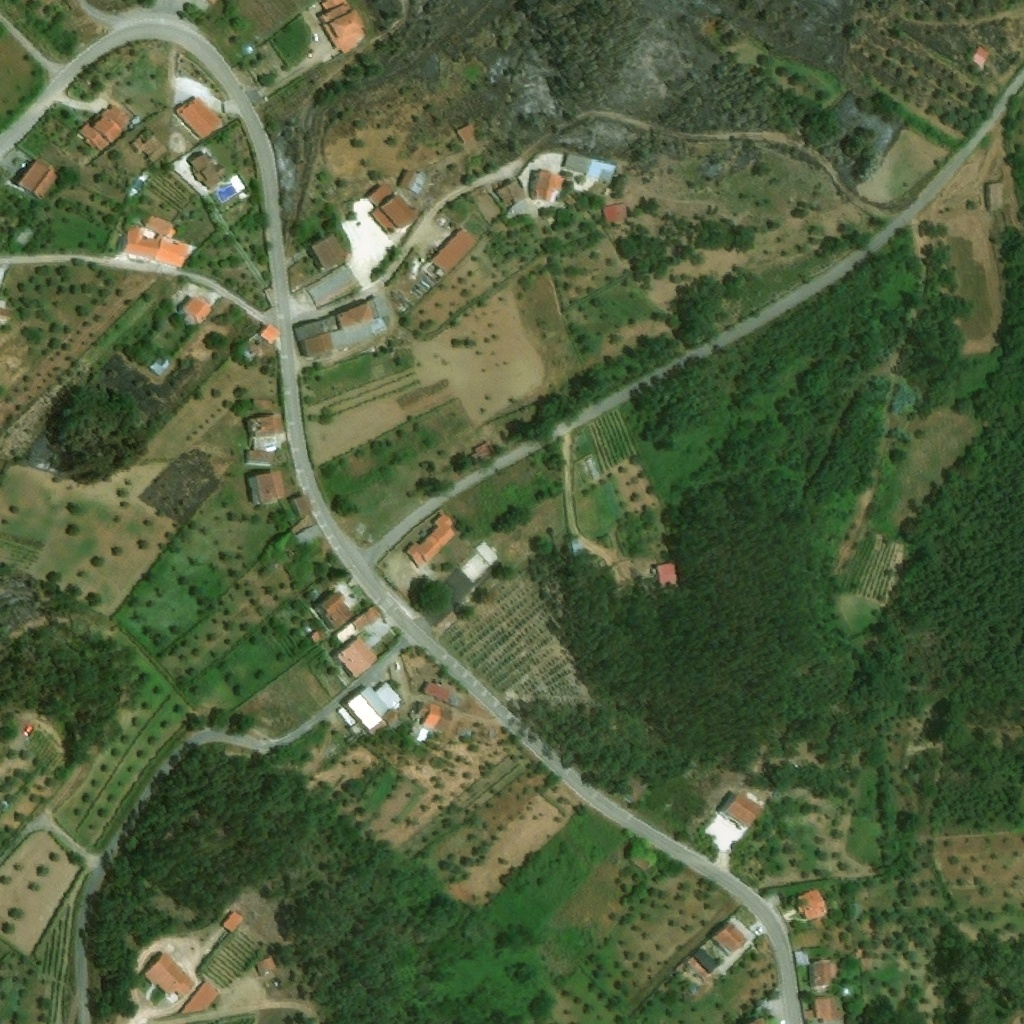0 no-damage: (421, 555, 494, 628), (295, 298, 383, 357), (118, 214, 190, 269), (402, 515, 455, 569), (363, 183, 419, 232), (316, 0, 366, 54), (77, 104, 132, 152), (141, 952, 195, 1000), (427, 227, 478, 275), (174, 96, 223, 139), (342, 693, 387, 737), (332, 638, 378, 680), (333, 605, 381, 645), (305, 234, 348, 274), (716, 793, 762, 830), (562, 152, 615, 183), (16, 160, 59, 198), (312, 591, 352, 631), (794, 951, 836, 989), (358, 681, 401, 718), (707, 920, 748, 958), (688, 938, 729, 975), (187, 151, 226, 187), (416, 702, 457, 735), (247, 470, 284, 506), (178, 982, 219, 1014), (292, 315, 338, 342), (421, 680, 463, 709), (528, 170, 565, 201), (800, 997, 843, 1023), (178, 296, 212, 325), (795, 890, 826, 921), (674, 956, 709, 982), (335, 707, 363, 736), (495, 179, 527, 204), (395, 647, 425, 673), (474, 542, 498, 573), (395, 171, 426, 195), (465, 443, 494, 467), (293, 524, 321, 548), (651, 563, 676, 588), (601, 203, 627, 223), (455, 123, 478, 145), (219, 912, 244, 932), (289, 495, 311, 517), (254, 956, 276, 978), (239, 342, 260, 363), (13, 226, 34, 246), (258, 324, 280, 343), (986, 184, 1001, 211), (147, 359, 170, 376), (407, 725, 428, 743), (583, 458, 599, 481), (971, 48, 989, 68), (383, 710, 400, 730), (251, 398, 272, 412), (306, 630, 322, 645), (0, 305, 12, 322), (567, 542, 581, 556)
1 minor-damage: (245, 413, 284, 467)
